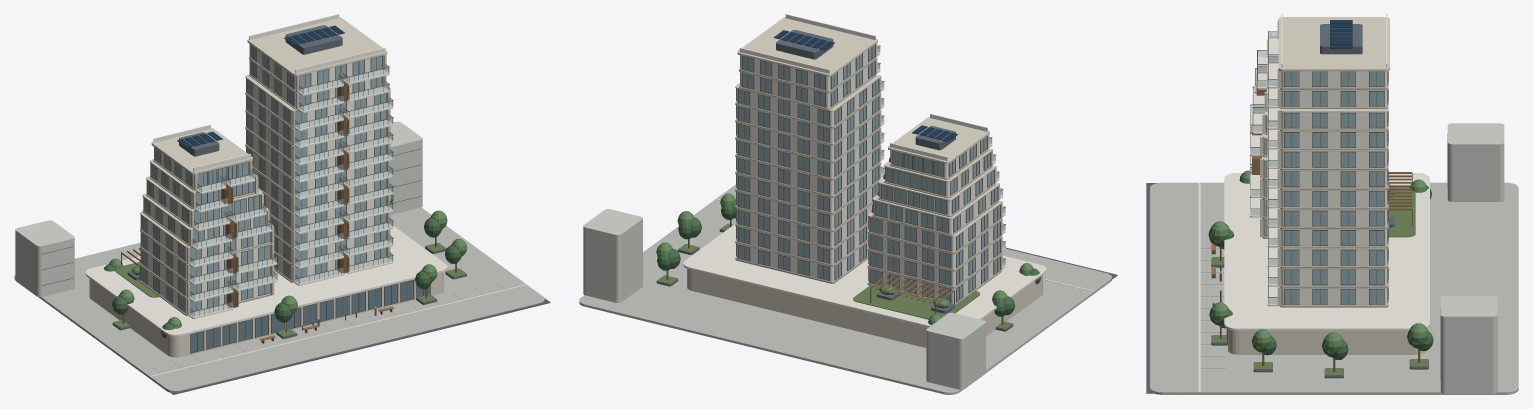
The model's file is lakeview_concept.glb.
3 renders of one model, left to right at view 1: azimuth 30°, elevation 25°; view 2: azimuth 150°, elevation 25°; view 3: azimuth 270°, elevation 25°, orthographic. The views are drawn at different scales.
Visible parts, largest first — view 1: Site_Context_Paving, Podium_Facade_Warm_Render, Site_Context_Context, Podium_Structure_Limestone, Podium_Windows_Glass_Dark, BuildingA_Roof_Limestone, BuildingB_Roof_Limestone, BuildingA_Floor_12_Facade_Warm_Render, BuildingA_Floor_10_Facade_Warm_Render, BuildingA_Floor_08_Facade_Warm_Render, Site_Context_Leaves, Podium_Windows_Bronze (+86 smaller); view 2: Site_Context_Paving, Site_Context_Context, Podium_Facade_Warm_Render, Podium_Structure_Limestone, BuildingA_Roof_Limestone, BuildingA_Floor_07_Facade_Warm_Render, BuildingA_Floor_06_Facade_Warm_Render, BuildingA_Floor_08_Facade_Warm_Render, BuildingA_Floor_09_Facade_Warm_Render, BuildingA_Floor_10_Facade_Warm_Render, BuildingA_Floor_05_Facade_Warm_Render, BuildingA_Floor_04_Facade_Warm_Render (+65 smaller); view 3: Site_Context_Paving, Podium_Facade_Warm_Render, Site_Context_Context, BuildingA_Roof_Limestone, Podium_Structure_Limestone, Site_Context_Leaves_Light, BuildingA_Floor_05_Facade_Warm_Render, BuildingA_Floor_10_Facade_Warm_Render, BuildingA_Floor_11_Facade_Warm_Render, BuildingA_Floor_03_Facade_Warm_Render, BuildingA_Floor_08_Facade_Warm_Render, BuildingA_Floor_01_Facade_Warm_Render (+44 smaller).
Boxes of the visible parts, box(x1,y1,x2,y2) form: Site_Context_Paving: box(14, 207, 544, 392); Podium_Facade_Warm_Render: box(85, 224, 447, 336); Site_Context_Context: box(15, 121, 422, 296); Podium_Structure_Limestone: box(89, 272, 443, 357); Podium_Windows_Glass_Dark: box(191, 280, 429, 352); BuildingA_Roof_Limestone: box(247, 17, 387, 76); BuildingB_Roof_Limestone: box(151, 127, 252, 174); BuildingA_Floor_12_Facade_Warm_Render: box(250, 45, 383, 90); BuildingA_Floor_10_Facade_Warm_Render: box(247, 80, 386, 125); BuildingA_Floor_08_Facade_Warm_Render: box(247, 114, 386, 160); Site_Context_Leaves: box(103, 217, 461, 338); Podium_Windows_Bronze: box(190, 279, 430, 353); Site_Context_Paving: box(579, 185, 1111, 394); Site_Context_Context: box(583, 209, 985, 389); Podium_Facade_Warm_Render: box(683, 224, 1046, 327); Podium_Structure_Limestone: box(687, 268, 1042, 347); BuildingA_Roof_Limestone: box(737, 17, 877, 76); BuildingA_Floor_07_Facade_Warm_Render: box(736, 132, 878, 178); BuildingA_Floor_06_Facade_Warm_Render: box(736, 150, 878, 195); BuildingA_Floor_08_Facade_Warm_Render: box(736, 115, 878, 160); BuildingA_Floor_09_Facade_Warm_Render: box(736, 98, 878, 143); BuildingA_Floor_10_Facade_Warm_Render: box(736, 81, 878, 126); BuildingA_Floor_05_Facade_Warm_Render: box(736, 167, 877, 212); BuildingA_Floor_04_Facade_Warm_Render: box(736, 184, 877, 229); Site_Context_Paving: box(1150, 182, 1518, 394); Podium_Facade_Warm_Render: box(1224, 173, 1429, 330); Site_Context_Context: box(1440, 123, 1504, 393); BuildingA_Roof_Limestone: box(1278, 17, 1389, 71); Podium_Structure_Limestone: box(1228, 329, 1425, 354); Site_Context_Leaves_Light: box(1209, 170, 1428, 353); BuildingA_Floor_05_Facade_Warm_Render: box(1281, 210, 1387, 227); BuildingA_Floor_10_Facade_Warm_Render: box(1281, 112, 1387, 129); BuildingA_Floor_11_Facade_Warm_Render: box(1281, 90, 1387, 107); BuildingA_Floor_03_Facade_Warm_Render: box(1281, 249, 1387, 266); BuildingA_Floor_08_Facade_Warm_Render: box(1281, 151, 1387, 168); BuildingA_Floor_01_Facade_Warm_Render: box(1281, 288, 1387, 305).
Size of the model in its own units: 71 by 43.1 by 52.5.
